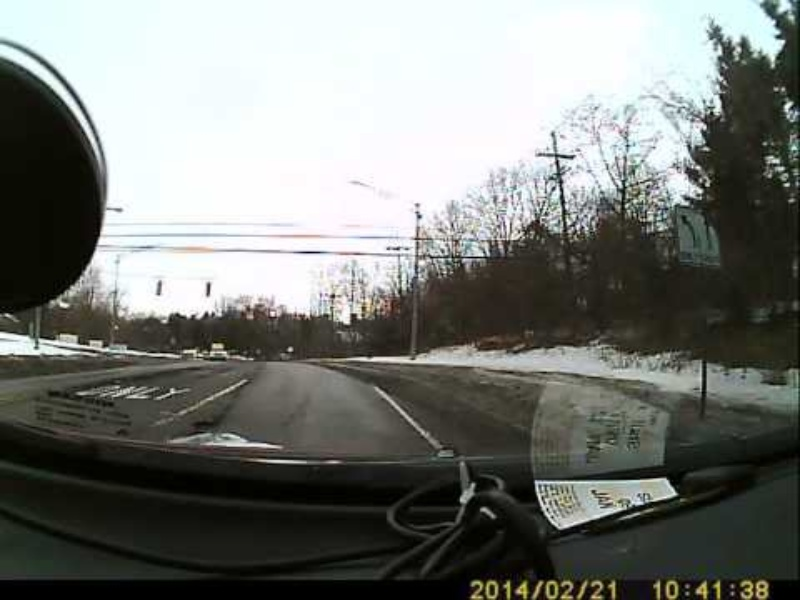pothole: (189, 417, 220, 432)
